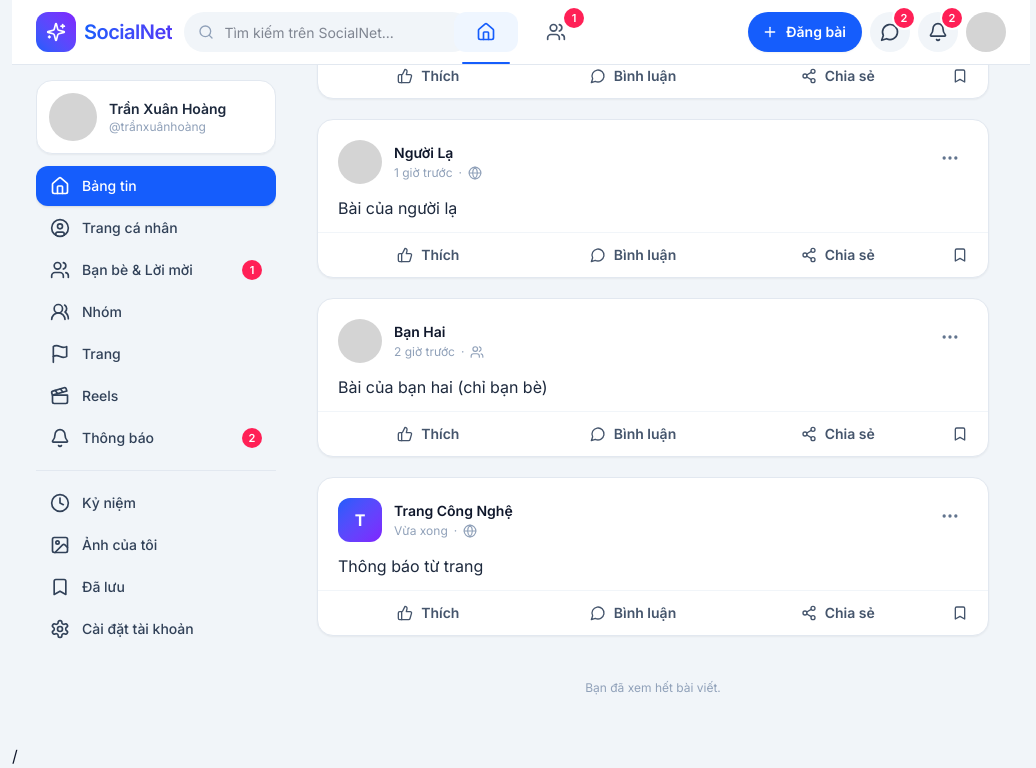
Scenario: Trang — người xem thường › bài của trang hiện ở bảng tin chung với tên trang, không hiện ở trang cá nhân của người đăng
(page scrolled)
Click the link "Trang Công Nghệ": [453, 510] box [394,502,513,519]
(page scrolled)
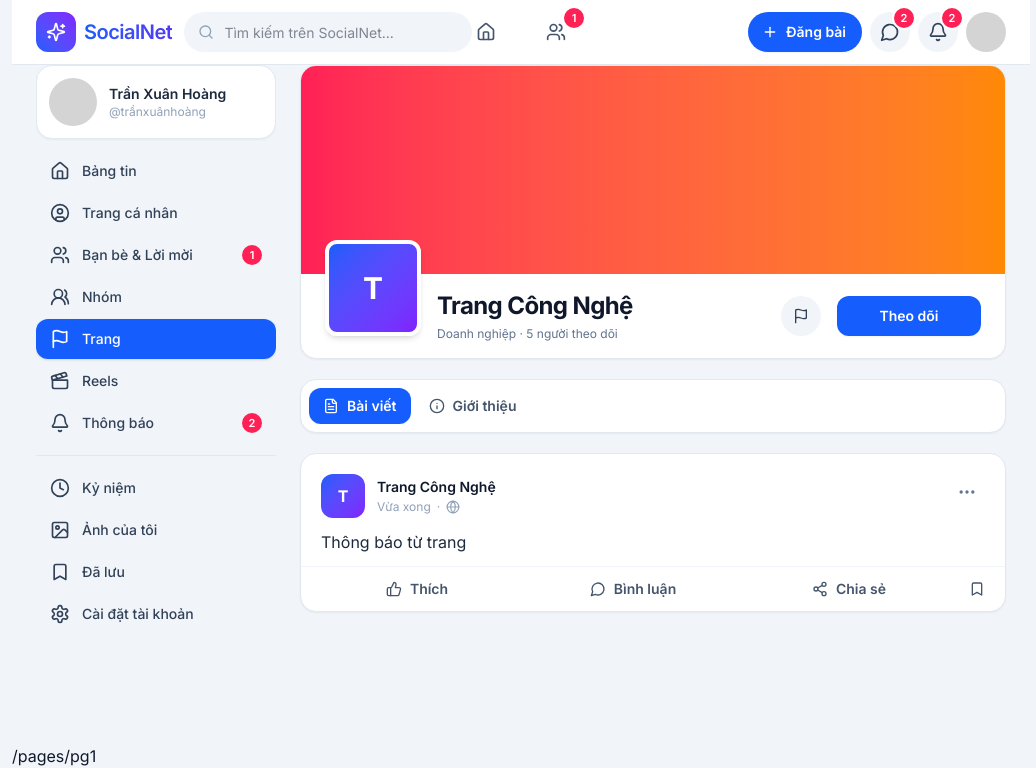
expect the heading "Trang Công Nghệ" is shown: met, box [437,291,633,320]
